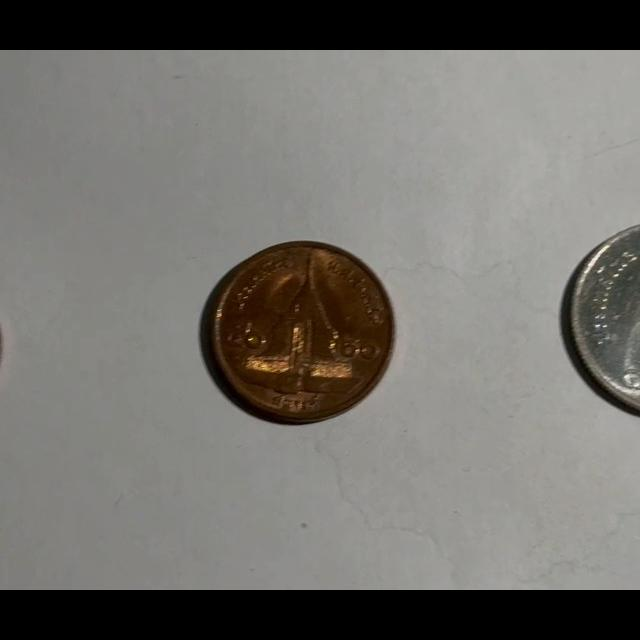1-baht: (562, 220, 640, 421)
50-satang: (206, 242, 393, 423)
